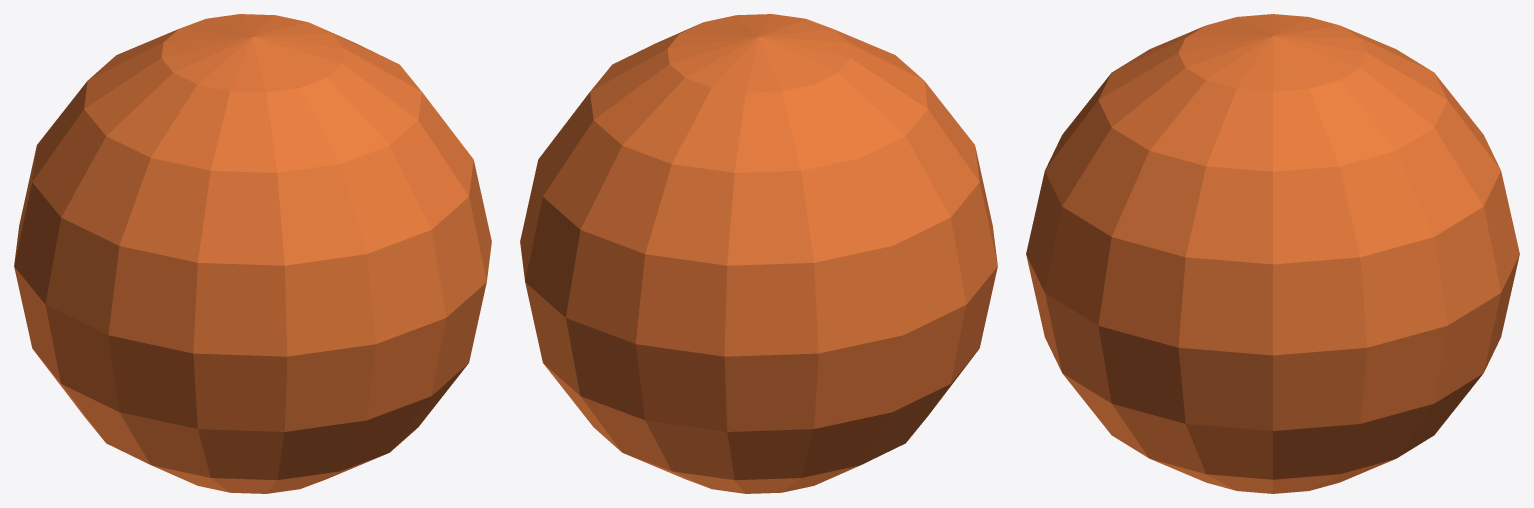
The model's file is Planet.fbx.
3 views of the same model, side by side, from view 1: azimuth 30°, elevation 25°; view 2: azimuth 150°, elevation 25°; view 3: azimuth 270°, elevation 25° (orthographic).
Parts seen in each view (by area): view 1: Sphere; view 2: Sphere; view 3: Sphere.
Boxes of the visible parts, x1,y1,x2,y2 form: Sphere: [14, 14, 491, 493]; Sphere: [520, 14, 997, 493]; Sphere: [1026, 14, 1519, 493].
Bounding box in the file's own units: 200 × 200 × 206.
